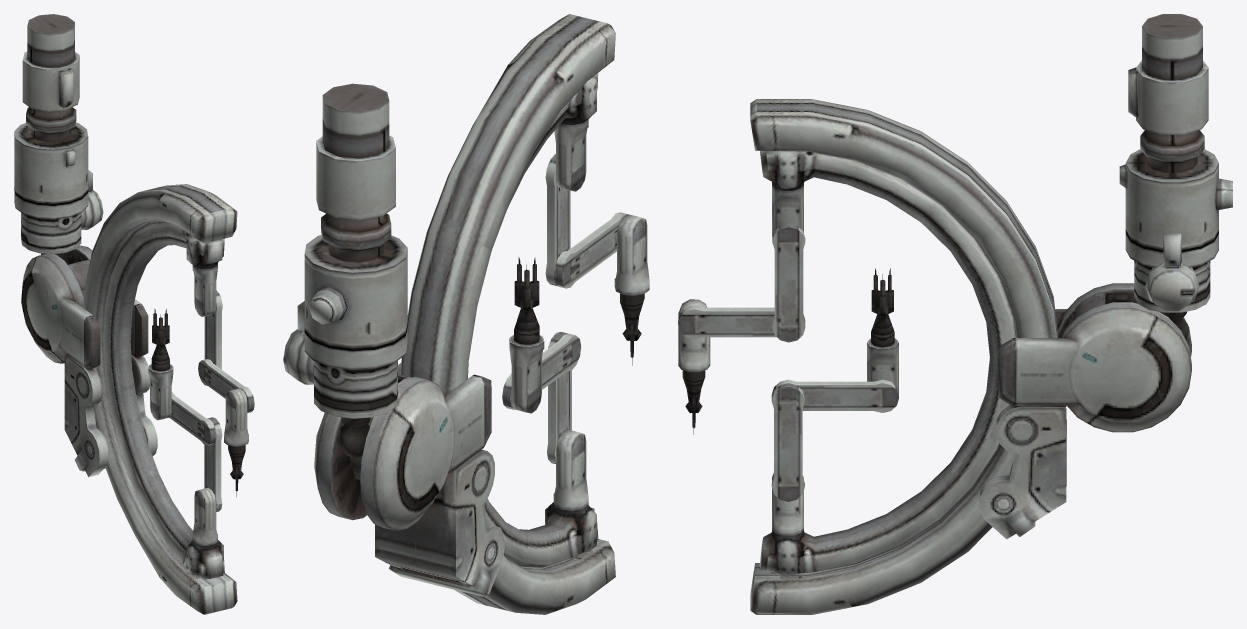
Rendered from CerMedicalArm01.FBX.
3 views of the same model, side by side, from view 1: azimuth 30°, elevation 25°; view 2: azimuth 150°, elevation 25°; view 3: azimuth 270°, elevation 25° (orthographic). The views are drawn at different scales.
Parts seen in each view (by area): view 1: CerMedicalArm01; view 2: CerMedicalArm01; view 3: CerMedicalArm01.
Boxes of the visible parts, box(x1,y1,x2,y2) form: CerMedicalArm01: box(14, 14, 254, 614); CerMedicalArm01: box(283, 14, 649, 614); CerMedicalArm01: box(678, 14, 1232, 614).
Size of the model in its own units: 0.627 by 3.65 by 3.16.
